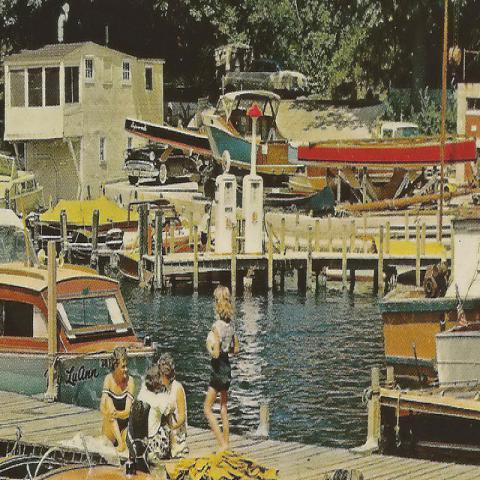car: (123, 140, 206, 187), (382, 122, 418, 138), (248, 59, 280, 73)
